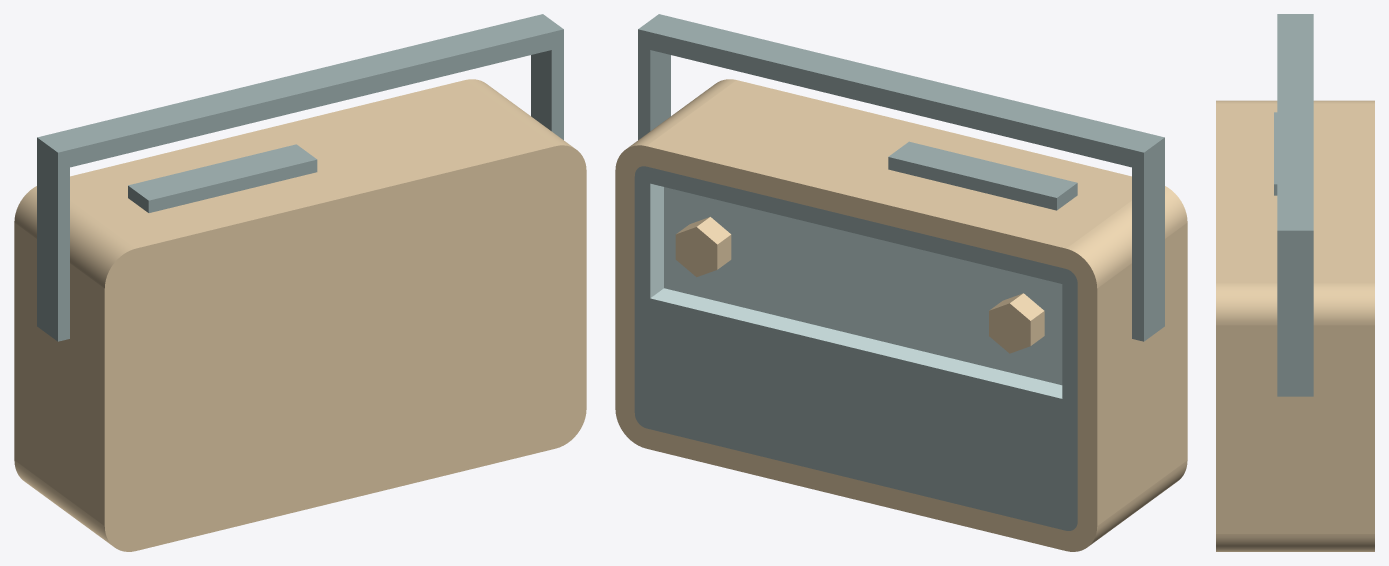
Rendered from radio.glb.
3 renders of one model, left to right at view 1: azimuth 30°, elevation 25°; view 2: azimuth 150°, elevation 25°; view 3: azimuth 270°, elevation 25°, orthographic. The views are drawn at different scales.
Visible parts, largest first — view 1: radio; view 2: radio; view 3: radio.
Part boxes in pixels (box(x1,y1,x2,y2)): radio: box(14, 14, 586, 551); radio: box(615, 14, 1187, 551); radio: box(1216, 14, 1374, 551).
Bounding box in the file's own units: 3.15 × 2.28 × 0.975.
